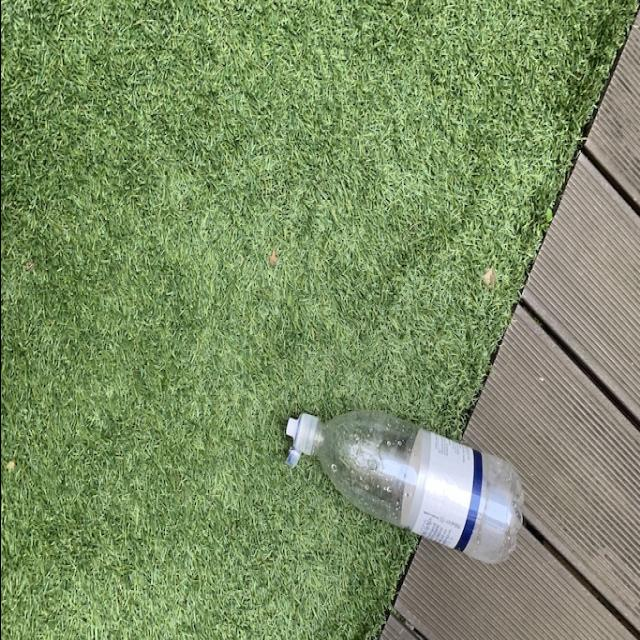litter: (280, 408, 522, 564)
